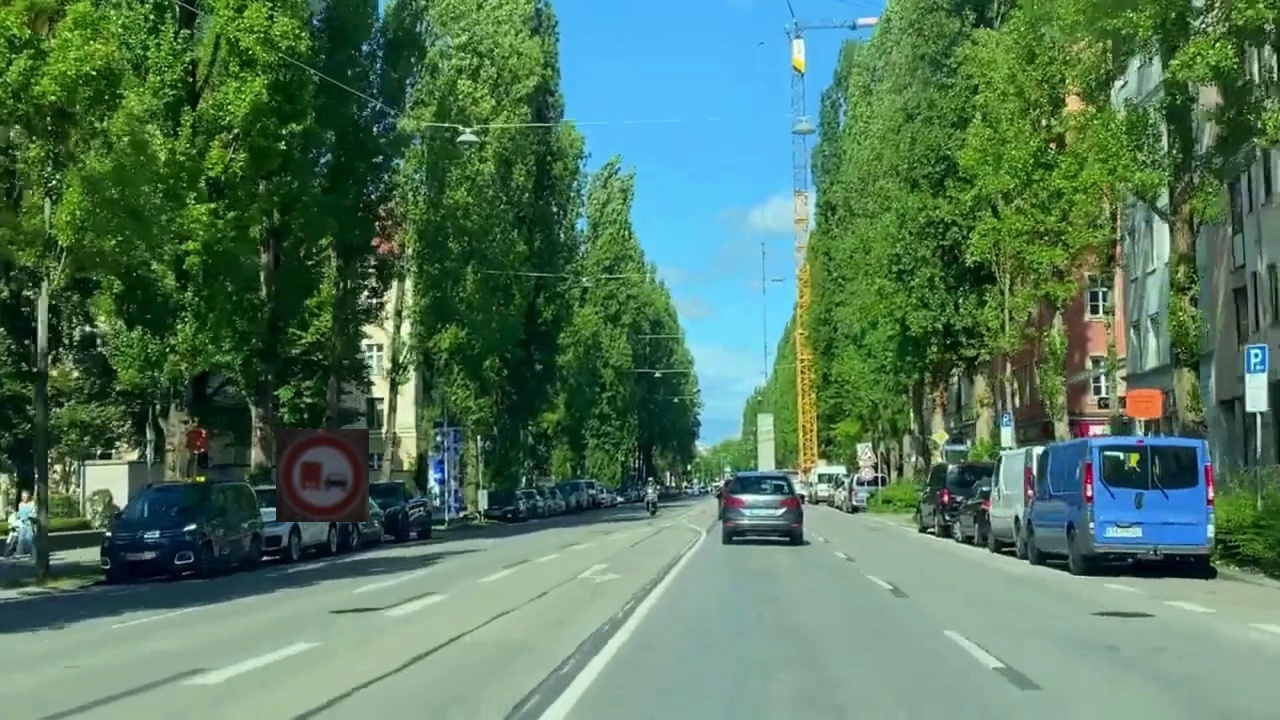No pass >3.5t: (276, 429, 369, 522)
